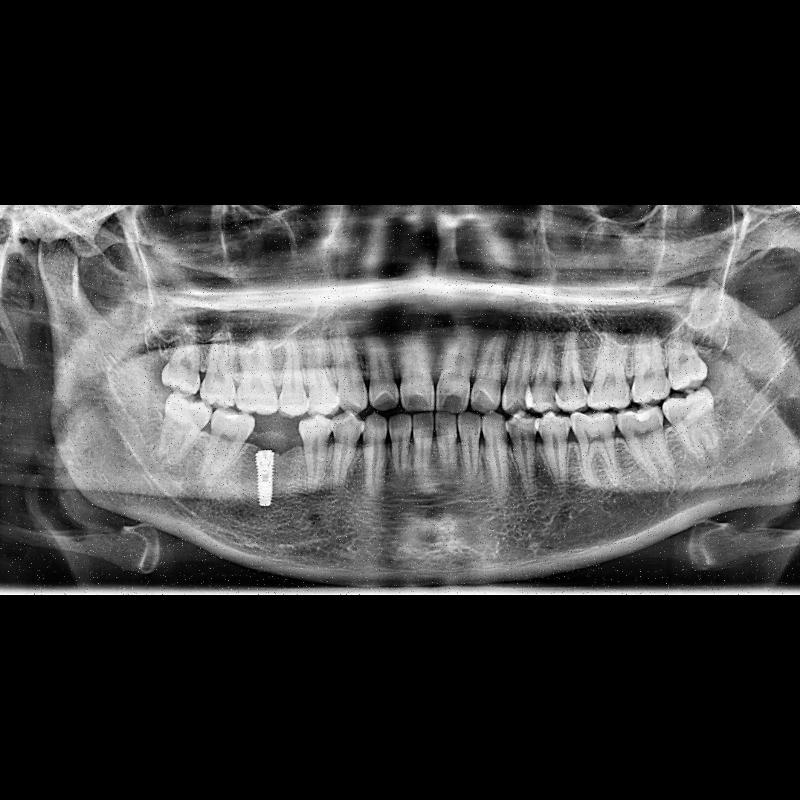osstem: (248, 448, 286, 514)
